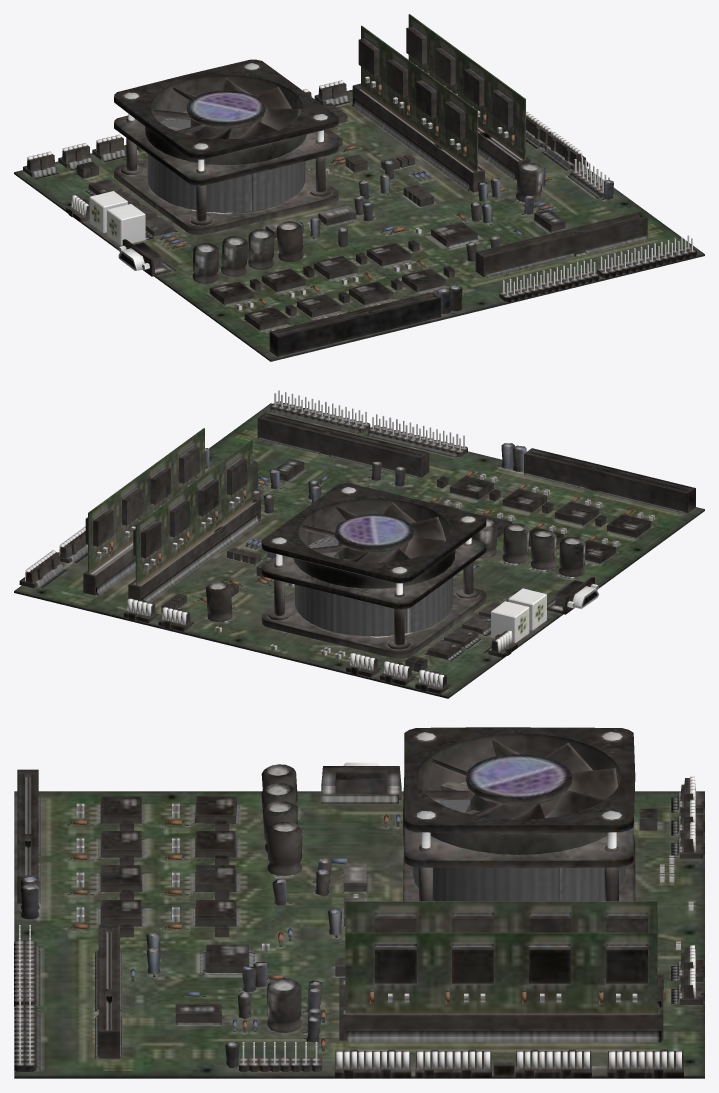
Rendered from circuit_board.glb.
3 views of the same model, one above another, from view 1: azimuth 30°, elevation 25°; view 2: azimuth 150°, elevation 25°; view 3: azimuth 270°, elevation 25° (orthographic). The views are drawn at different scales.
Parts seen in each view (by area): view 1: circuit_board; view 2: circuit_board; view 3: circuit_board.
Part boxes in pixels (box(x1,y1,x2,y2)): circuit_board: box(14, 14, 704, 361); circuit_board: box(14, 390, 704, 698); circuit_board: box(14, 727, 704, 1078).
Size of the model in its own units: 0.4035 by 0.0783 by 0.3974.
2 materials, 2 textured.
